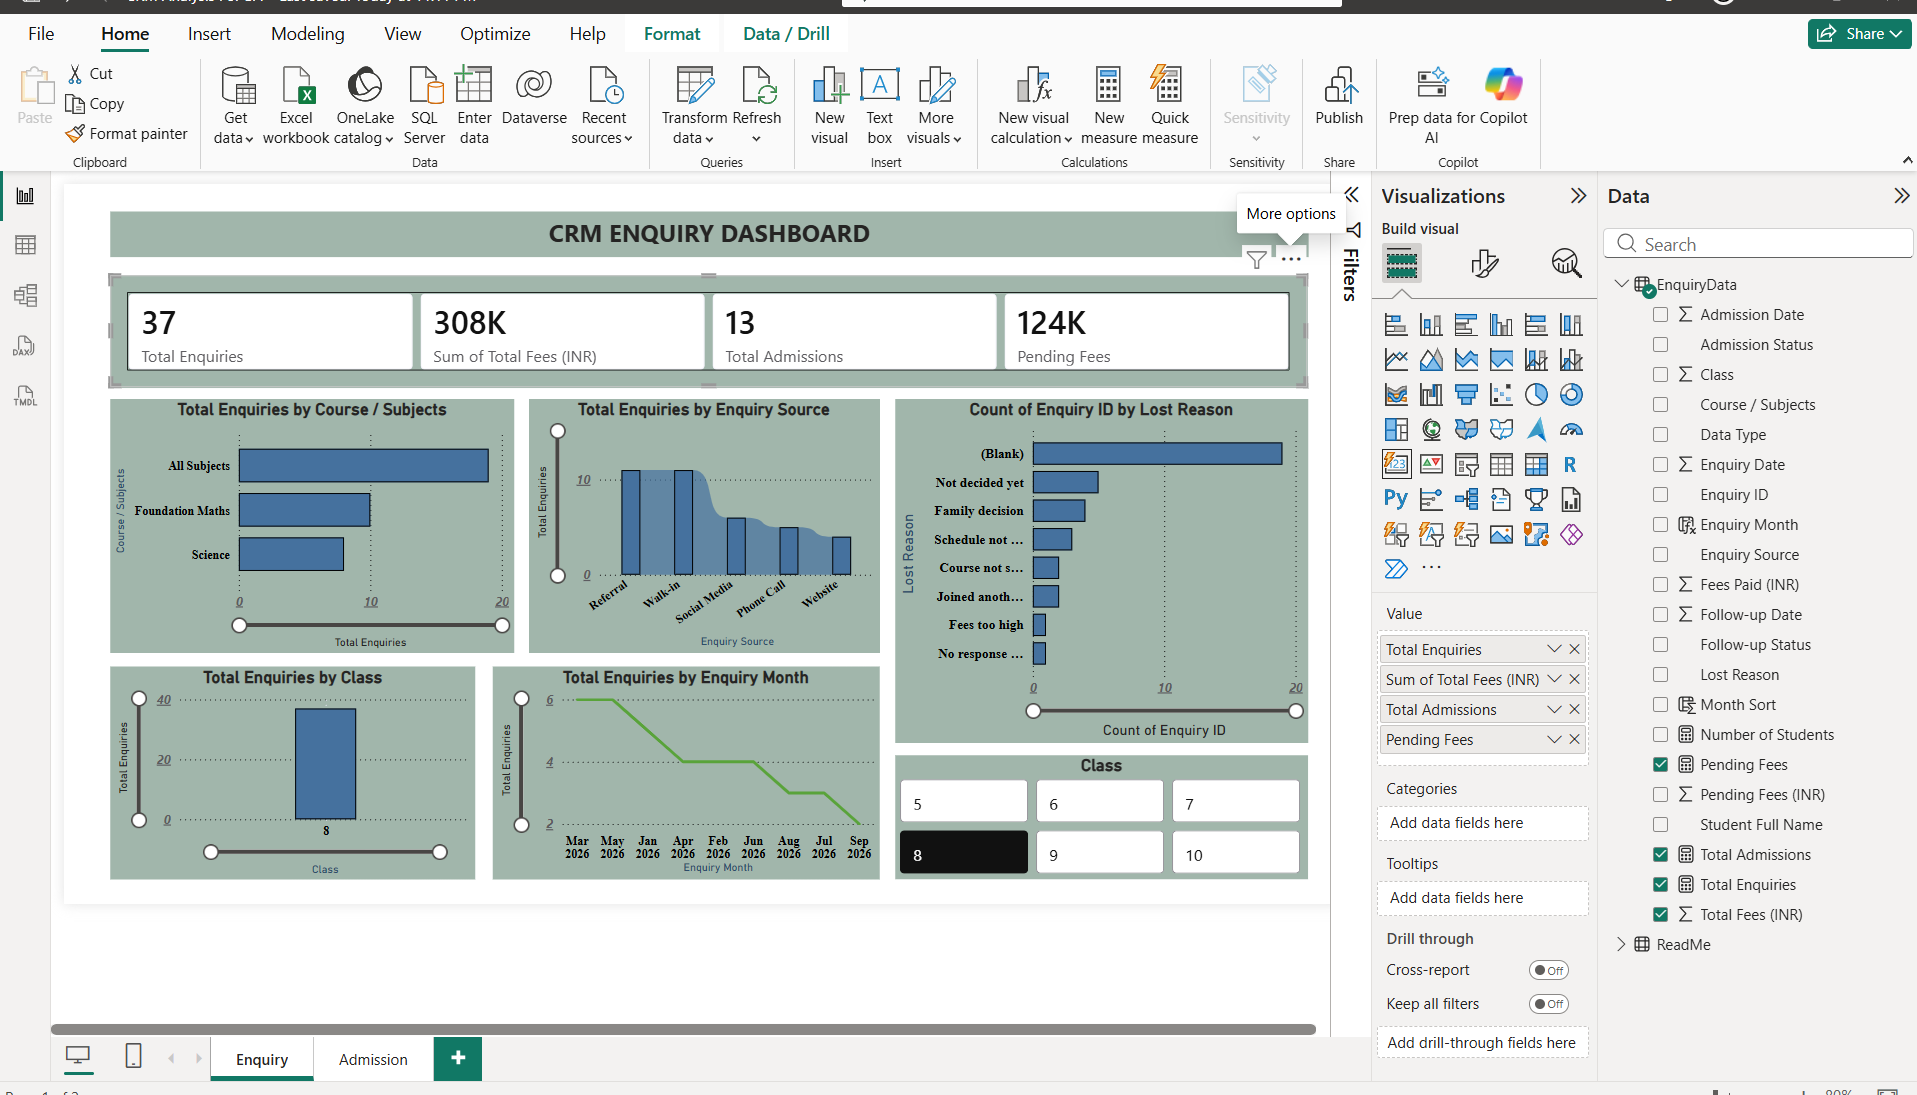

The dashboard page shown, as its layout file describes it:
{"tool":"powerbi","page":{"name":"Enquiry","canvas":[1280,720],"ordinal":0},"visuals":[{"type":"cardVisual","fields":{"Data":["EnquiryData.Total Enquiries","Sum(EnquiryData.Total Fees (INR))","EnquiryData.Total Admissions","EnquiryData.Pending Fees"]},"box":[46.2,91.2,1197.5,112.5],"z":0},{"type":"textbox","box":[46,27.4,1198.1,46],"z":1000},{"type":"ribbonChart","fields":{"Category":["EnquiryData.Enquiry Source"],"Y":["EnquiryData.Total Enquiries"]},"box":[465,215,350,253.8],"z":2000},{"type":"barChart","fields":{"Category":["EnquiryData.Lost Reason"],"Y":["CountNonNull(EnquiryData.Enquiry ID)"]},"box":[831.2,215,412.5,343.8],"z":3000},{"type":"lineChart","fields":{"Y":["EnquiryData.Total Enquiries"],"Category":["EnquiryData.Enquiry Month"]},"box":[428.8,482.5,386.2,212.5],"z":4000},{"type":"clusteredBarChart","fields":{"Category":["EnquiryData.Course / Subjects"],"Y":["EnquiryData.Total Enquiries"]},"box":[46.2,215,403.8,253.8],"z":5000},{"type":"clusteredColumnChart","fields":{"Category":["EnquiryData.Class"],"Y":["EnquiryData.Total Enquiries"]},"box":[46,483,365,213],"z":6000},{"type":"advancedSlicerVisual","fields":{"Values":["EnquiryData.Class"]},"box":[831.2,571.2,412.5,123.8],"z":7000}]}

Visuals, with their boxes on the page's 1280x720 design canvas (x1, y1, x2, y2). These are canvas units, not pixel positions in the 1917x1095 screenshot, which may show the page scaled, cropped or inside an application window:
cardVisual - EnquiryData.Total Enquiries x Sum(EnquiryData.Total Fees (INR)): pyautogui.locateOnScreen(46, 91, 1244, 204)
textbox: pyautogui.locateOnScreen(46, 27, 1244, 73)
ribbonChart - EnquiryData.Enquiry Source x EnquiryData.Total Enquiries: pyautogui.locateOnScreen(465, 215, 815, 469)
barChart - EnquiryData.Lost Reason x CountNonNull(EnquiryData.Enquiry ID): pyautogui.locateOnScreen(831, 215, 1244, 559)
lineChart - EnquiryData.Total Enquiries x EnquiryData.Enquiry Month: pyautogui.locateOnScreen(429, 482, 815, 695)
clusteredBarChart - EnquiryData.Course / Subjects x EnquiryData.Total Enquiries: pyautogui.locateOnScreen(46, 215, 450, 469)
clusteredColumnChart - EnquiryData.Class x EnquiryData.Total Enquiries: pyautogui.locateOnScreen(46, 483, 411, 696)
advancedSlicerVisual - EnquiryData.Class: pyautogui.locateOnScreen(831, 571, 1244, 695)
